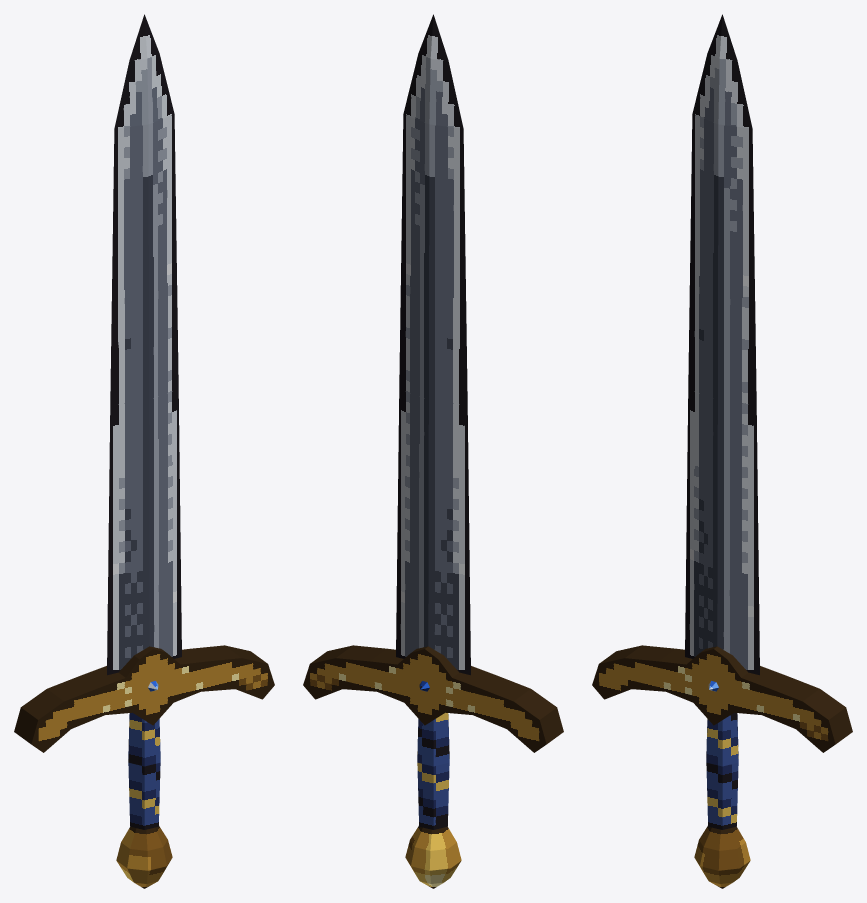
The model's file is sword_1h_knight.glb.
3 views of the same model, side by side, from view 1: azimuth 30°, elevation 25°; view 2: azimuth 150°, elevation 25°; view 3: azimuth 330°, elevation 25° (orthographic).
Parts seen in each view (by area): view 1: sword_1h_knight; view 2: sword_1h_knight; view 3: sword_1h_knight.
Part boxes in pixels (bbox=[...]): sword_1h_knight: bbox=[14, 14, 274, 888]; sword_1h_knight: bbox=[303, 14, 563, 888]; sword_1h_knight: bbox=[592, 14, 852, 888].
Size of the model in its own units: 0.356 by 1.22 by 0.068.
1 material, 1 textured.
